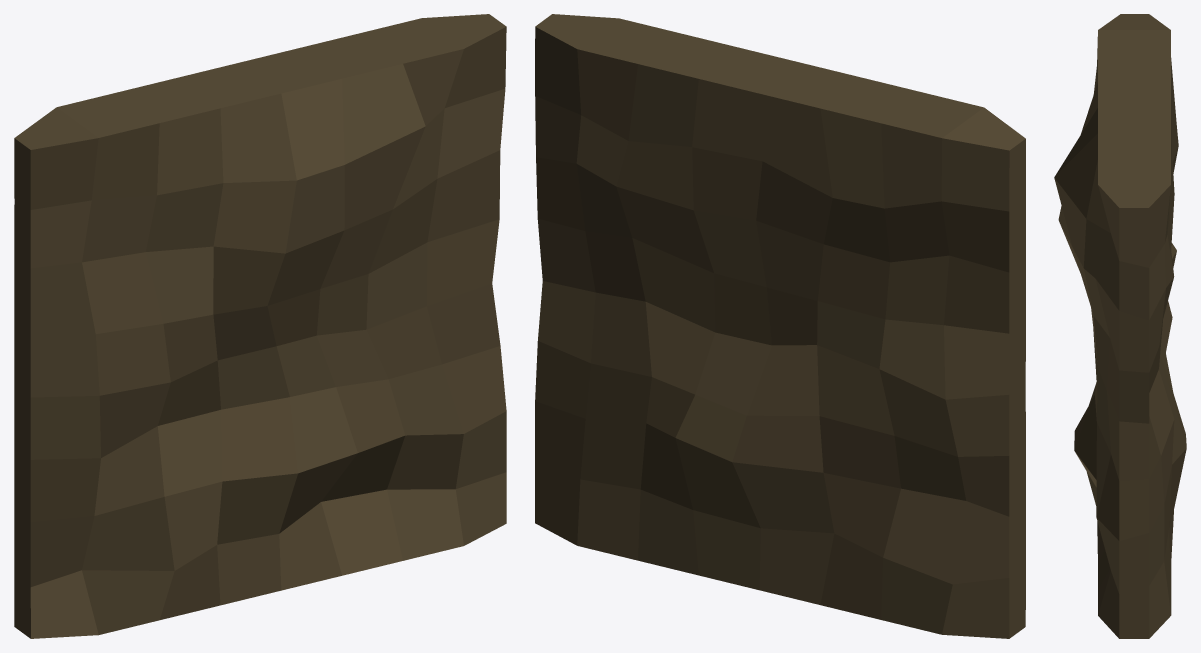
File: BigWall.2.fbx
3 renders of one model, left to right at view 1: azimuth 30°, elevation 25°; view 2: azimuth 150°, elevation 25°; view 3: azimuth 270°, elevation 25°, orthographic. The views are drawn at different scales.
Visible parts, largest first — view 1: Big_Wall.2; view 2: Big_Wall.2; view 3: Big_Wall.2.
Boxes of the visible parts, box(x1,y1,x2,y2) form: Big_Wall.2: box(14, 14, 506, 638); Big_Wall.2: box(535, 14, 1025, 638); Big_Wall.2: box(1054, 14, 1186, 638).
Size of the model in its own units: 1300 by 1300 by 362.
